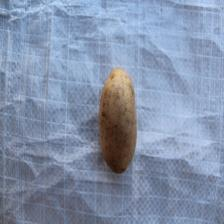Diseased-fungal potato: (97, 65, 138, 174)
